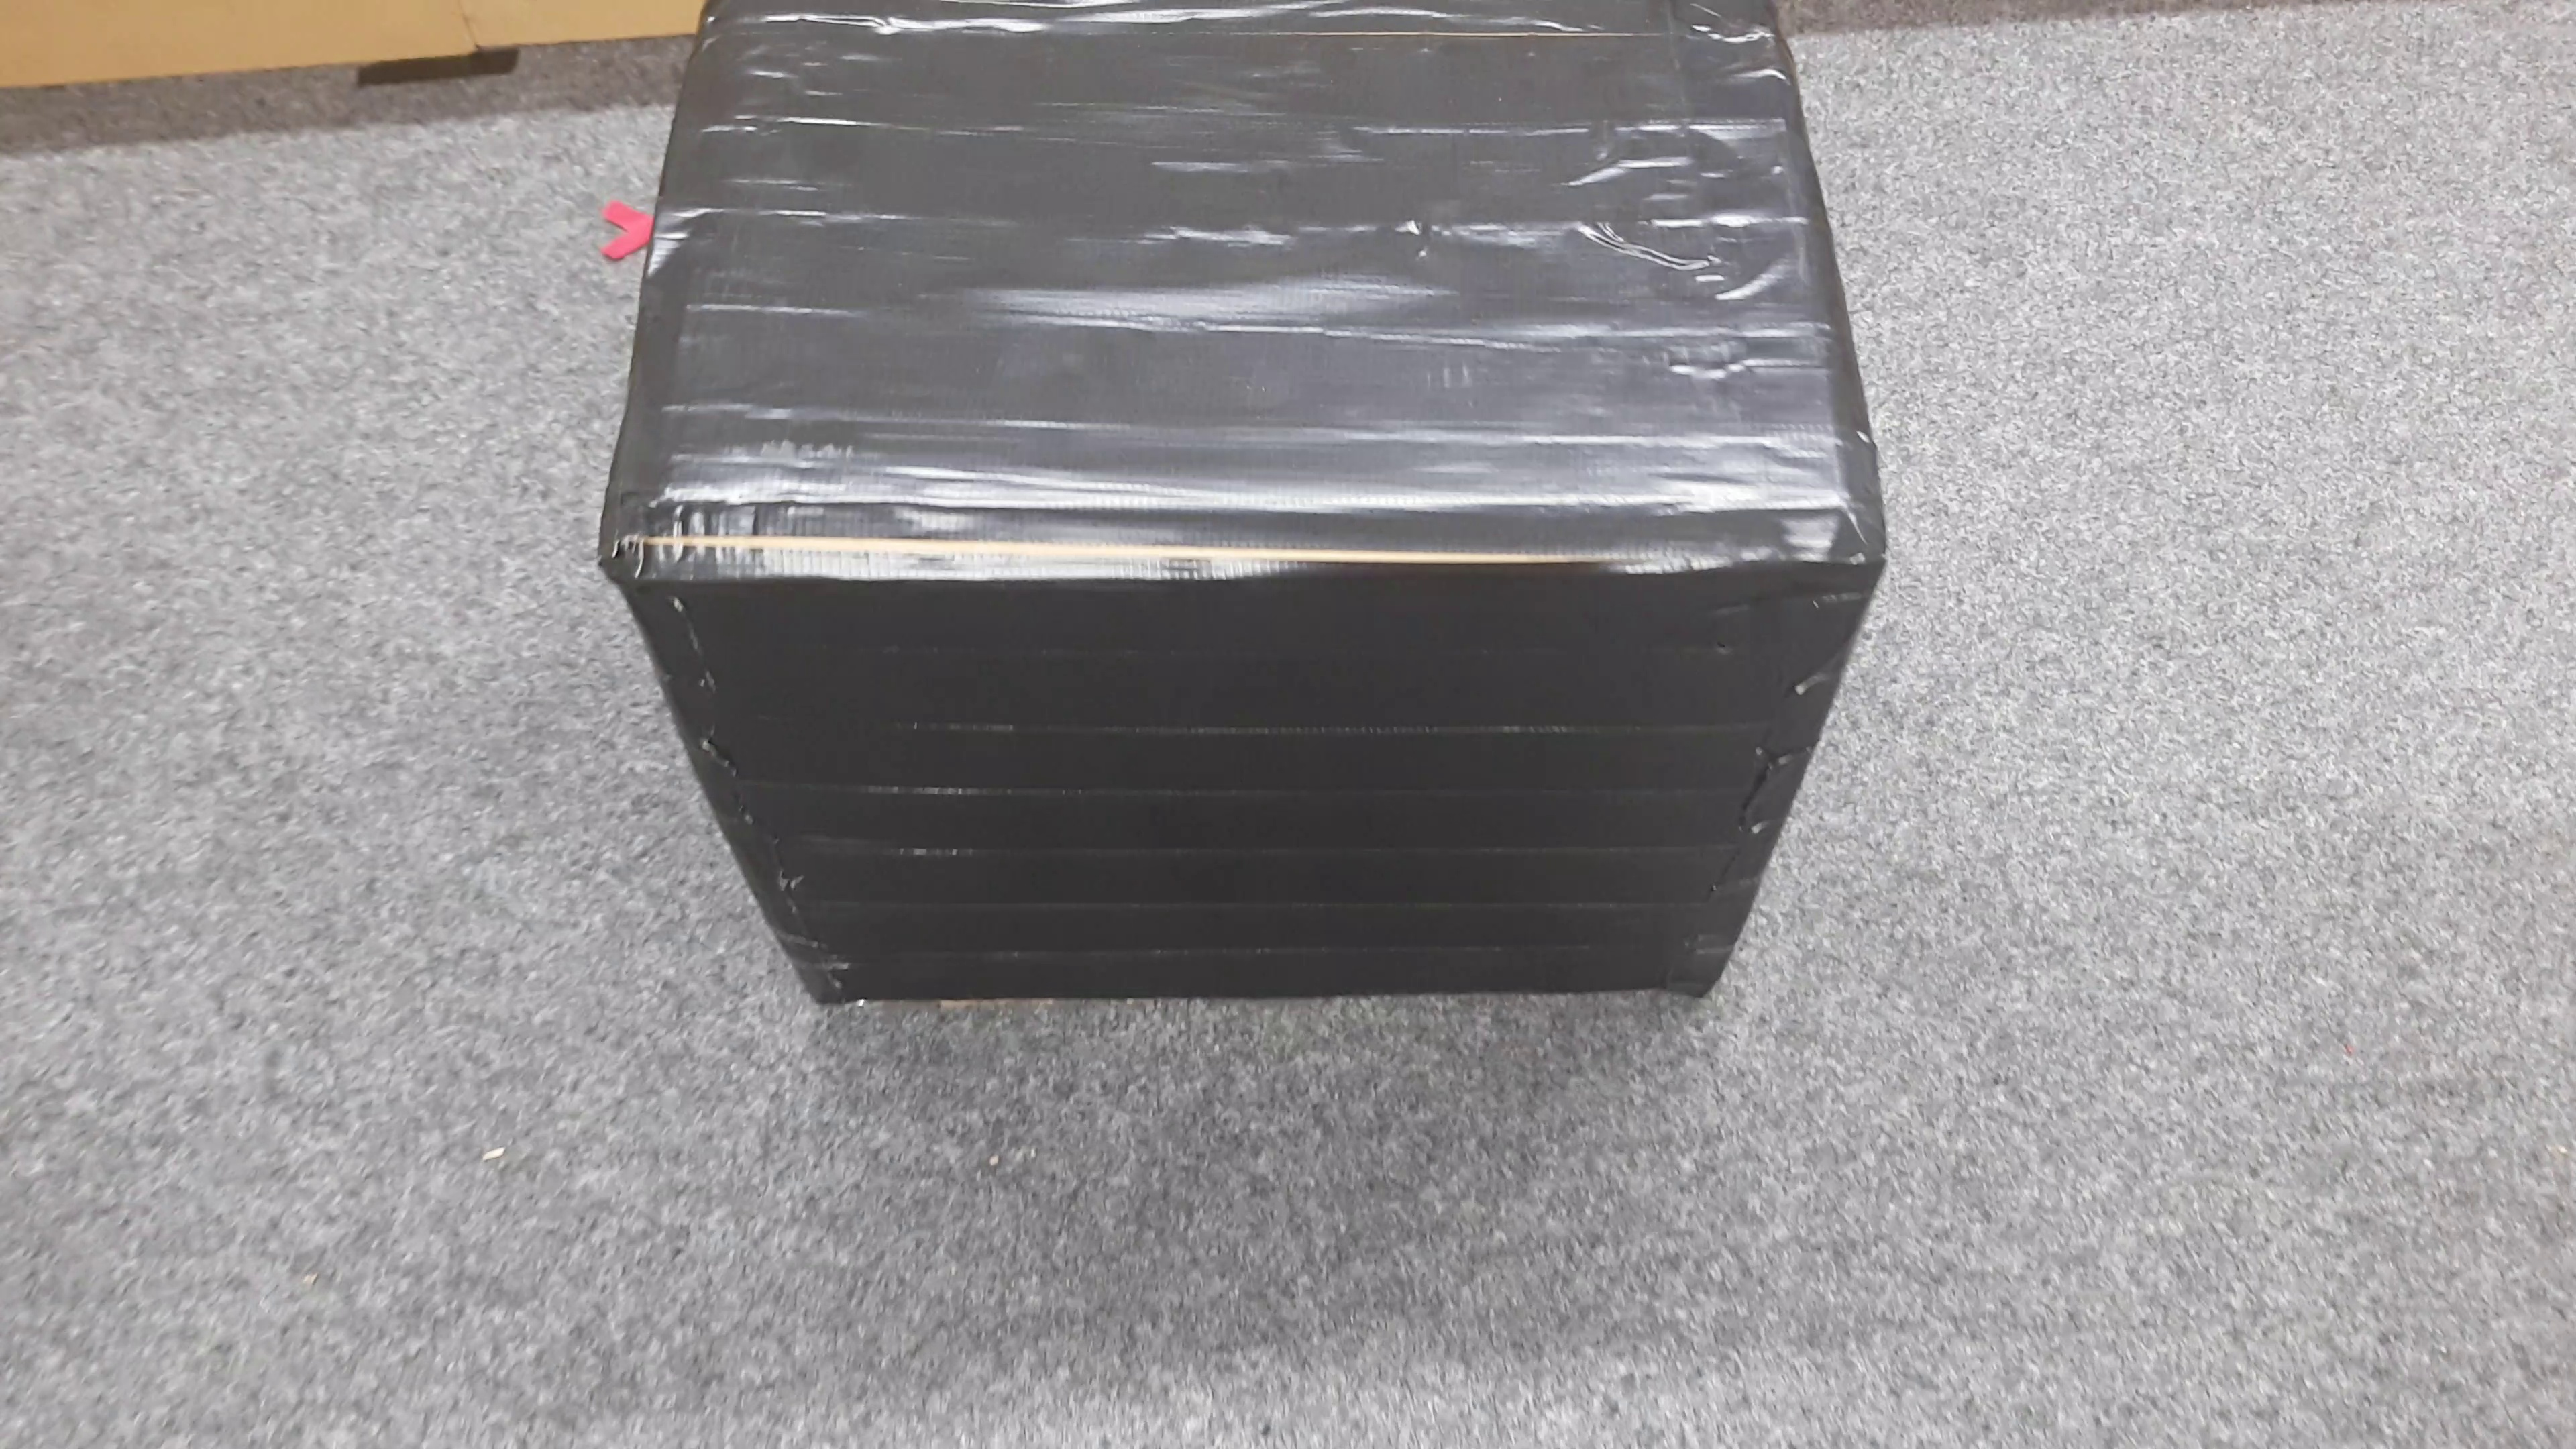push: (609, 5, 1890, 1005)
